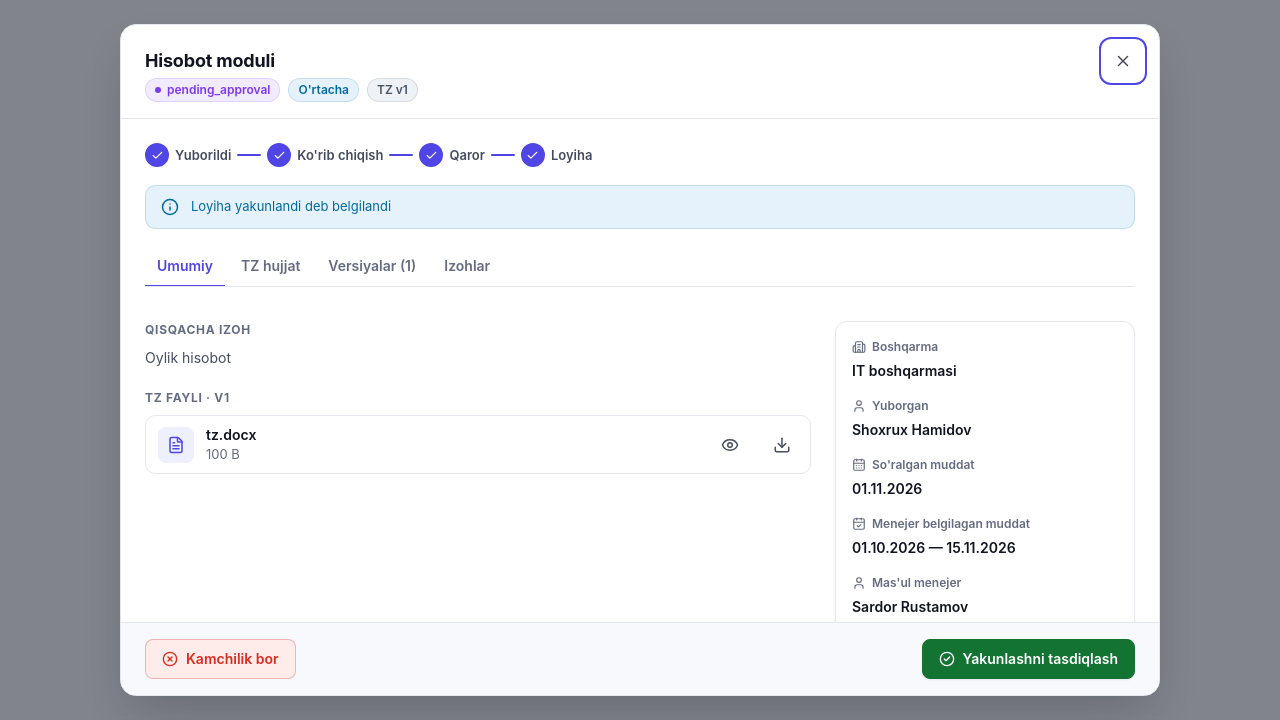
OrderModal — loyihani yakunlashni tasdiqlash › rad etish oynasi buyurtma oynasi ustida alohida ochiladi, Esc faqat uni yopadi
Click the button "Kamchilik bor" at (220, 659), box [145,639,296,679]
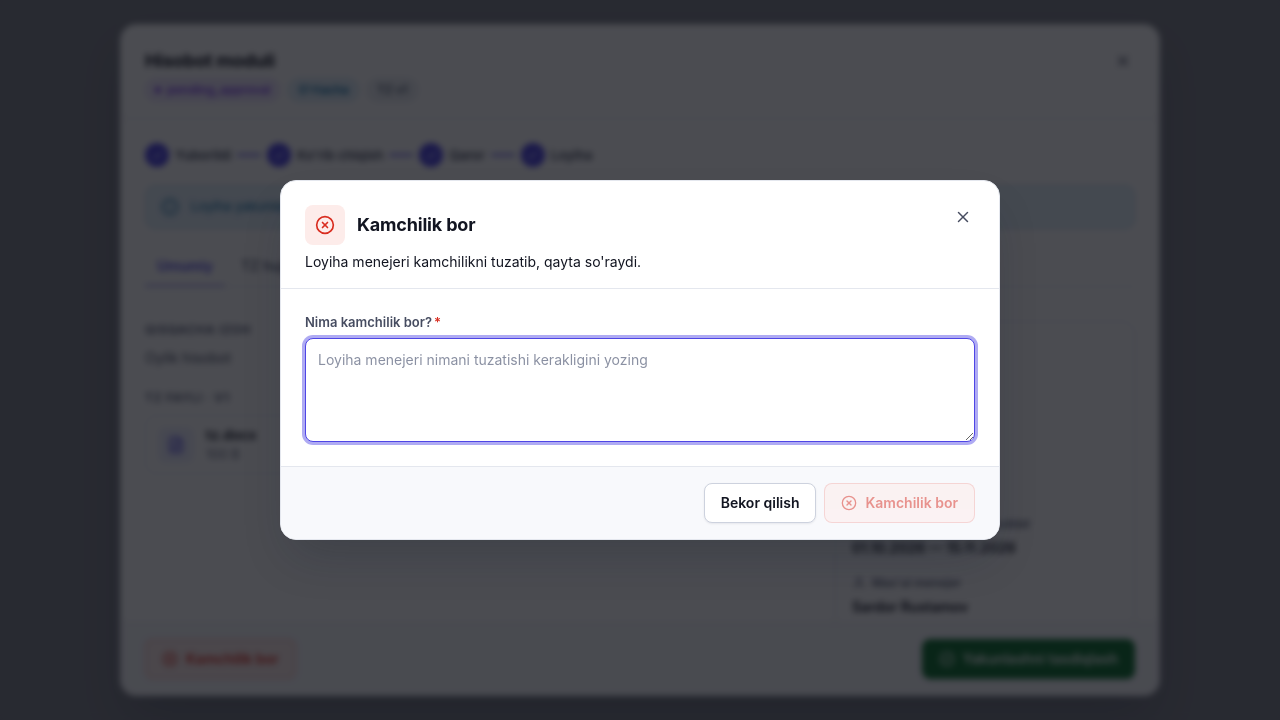
Expected: the text "Loyiha menejeri kamchilikni tuzatib, qayta so'raydi." is shown, [305,253,641,270]
Expected: the dialog "Kamchilik bor" is shown, [280,180,1000,540]
Press Escape
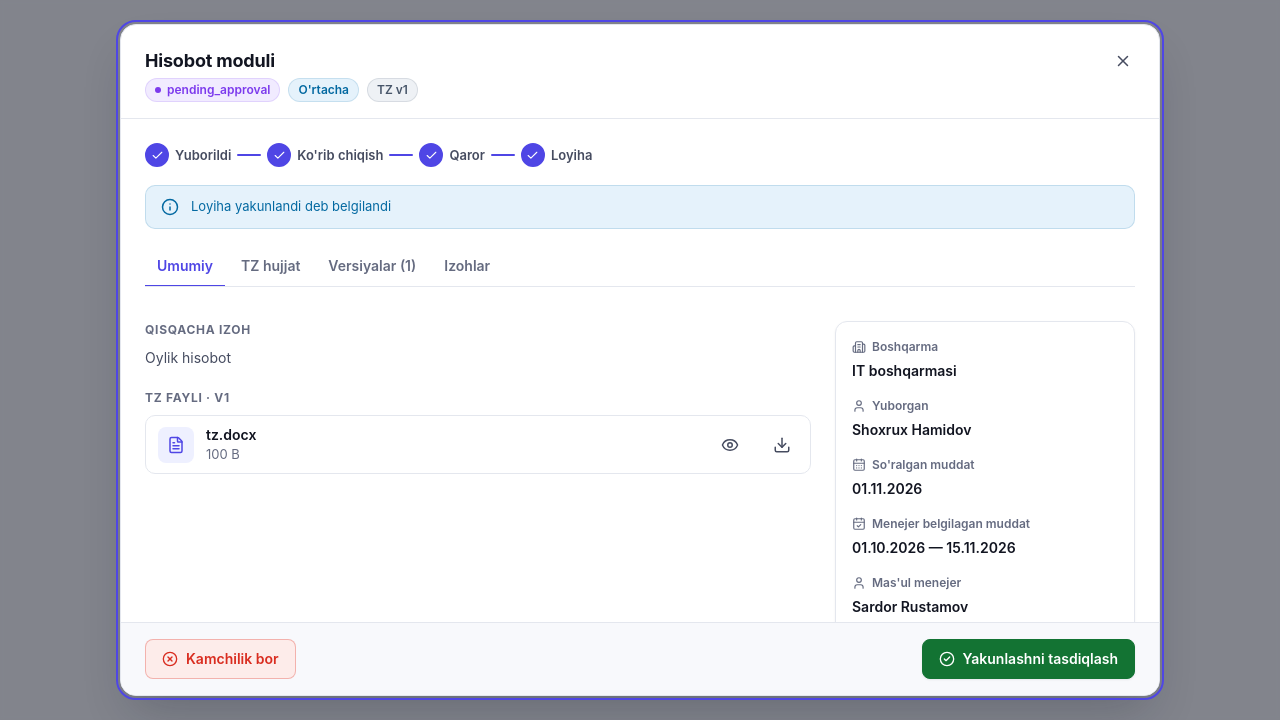
Expected: the text "Loyiha menejeri kamchilikni tuzatib, qayta so'raydi." is gone
